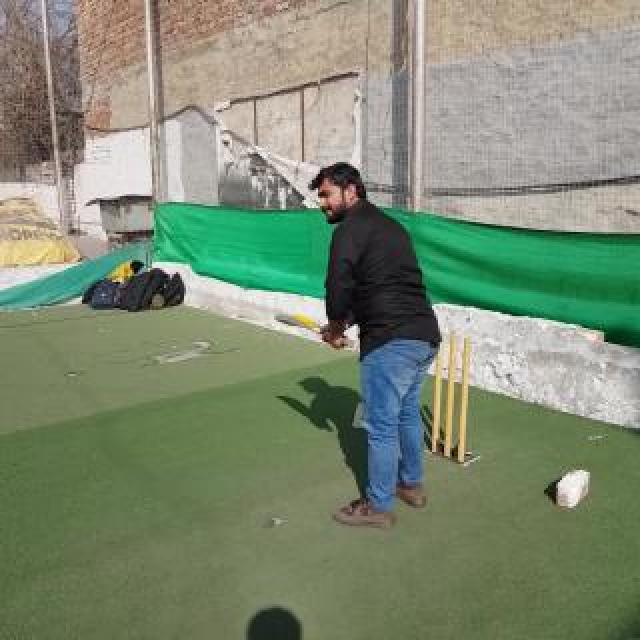bat: (272, 312, 356, 348)
